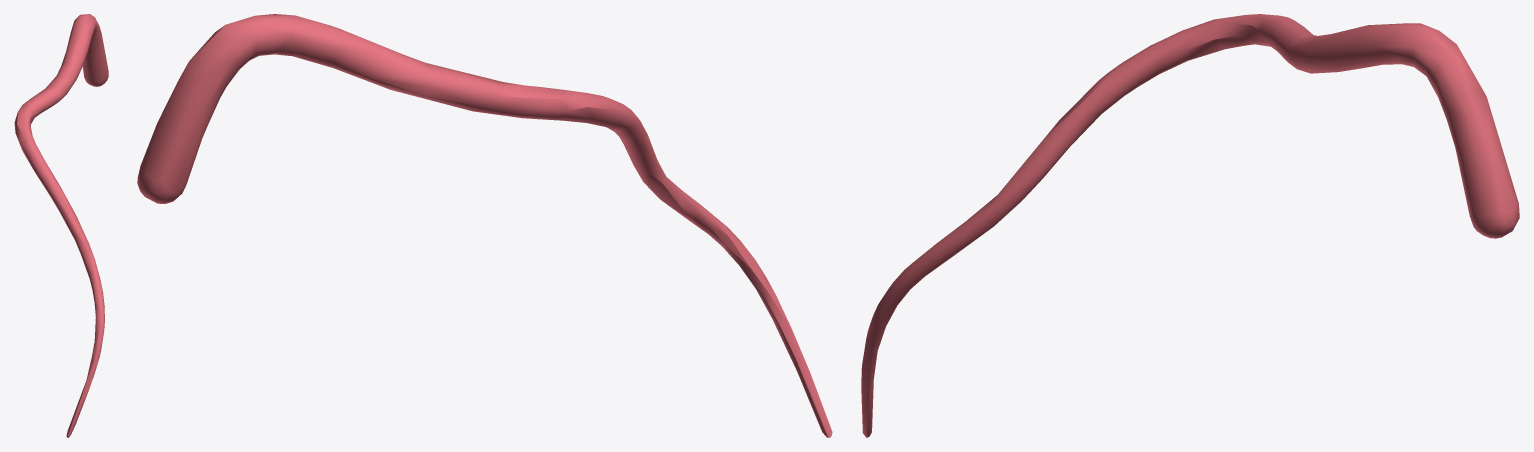
Rendered from fma70450_fj3106.glb.
3 views of the same model, side by side, from view 1: azimuth 30°, elevation 25°; view 2: azimuth 150°, elevation 25°; view 3: azimuth 270°, elevation 25° (orthographic). The views are drawn at different scales.
Parts seen in each view (by area): view 1: FMA70450_FJ3106; view 2: FMA70450_FJ3106; view 3: FMA70450_FJ3106.
Part boxes in pixels (box(x1,y1,x2,y2)): FMA70450_FJ3106: box(14, 14, 108, 437); FMA70450_FJ3106: box(137, 14, 832, 437); FMA70450_FJ3106: box(861, 14, 1519, 437).
Bounding box in the file's own units: 0.0273 × 0.0371 × 0.0395.
